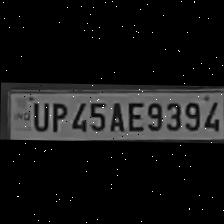3: (162, 96, 180, 130)
4: (200, 95, 220, 130), (68, 98, 86, 132)
5: (86, 97, 106, 130)
9: (180, 97, 200, 130), (144, 97, 162, 130)
A: (105, 97, 124, 131)
E: (124, 96, 142, 131)
P: (47, 97, 66, 130)
U: (29, 98, 48, 130)
